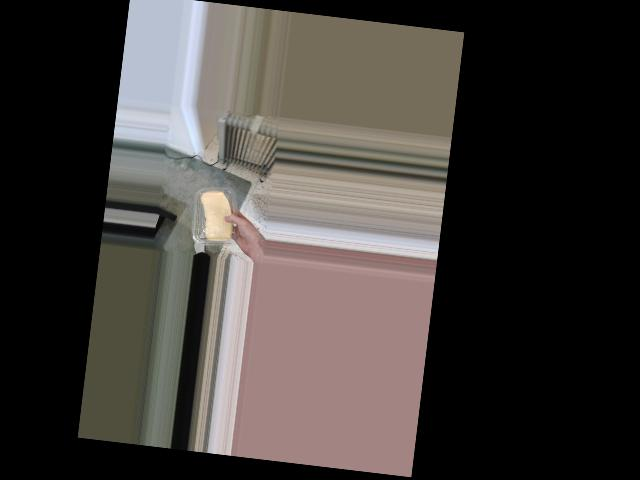cheese: (190, 182, 242, 247)
